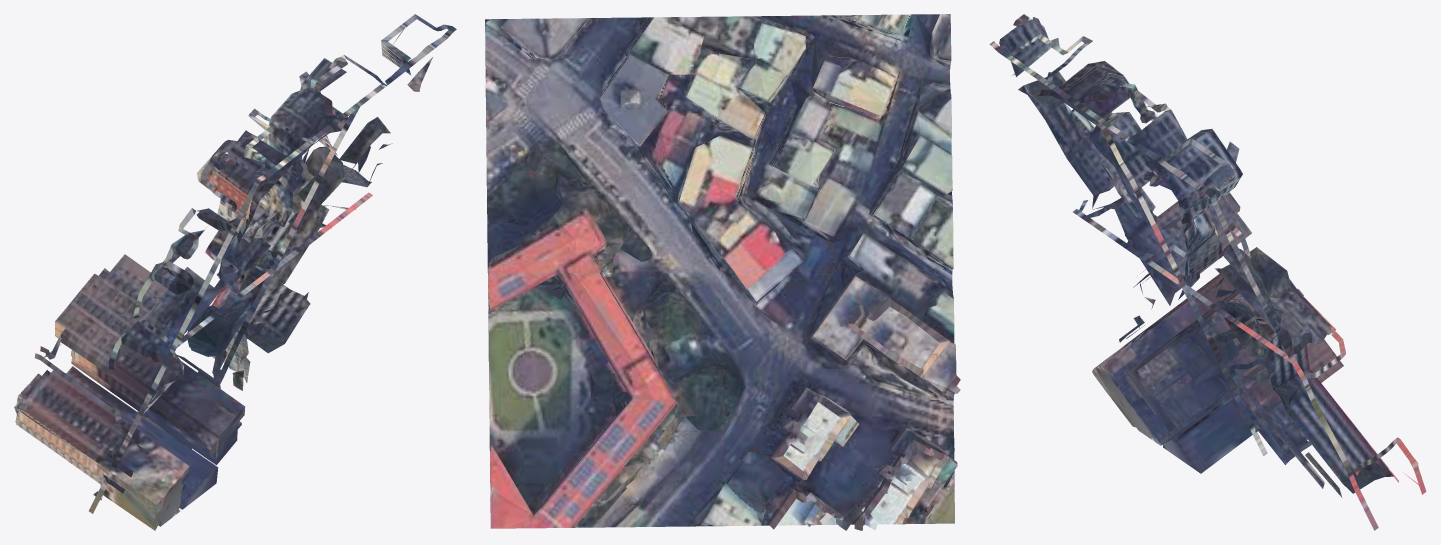
3 renders of one model, left to right at view 1: azimuth 30°, elevation 25°; view 2: azimuth 150°, elevation 25°; view 3: azimuth 270°, elevation 25°, orthographic. The views are drawn at different scales.
Size of the model in its own units: 168 by 155 by 144.
Materials: 2 (2 with a texture image).
